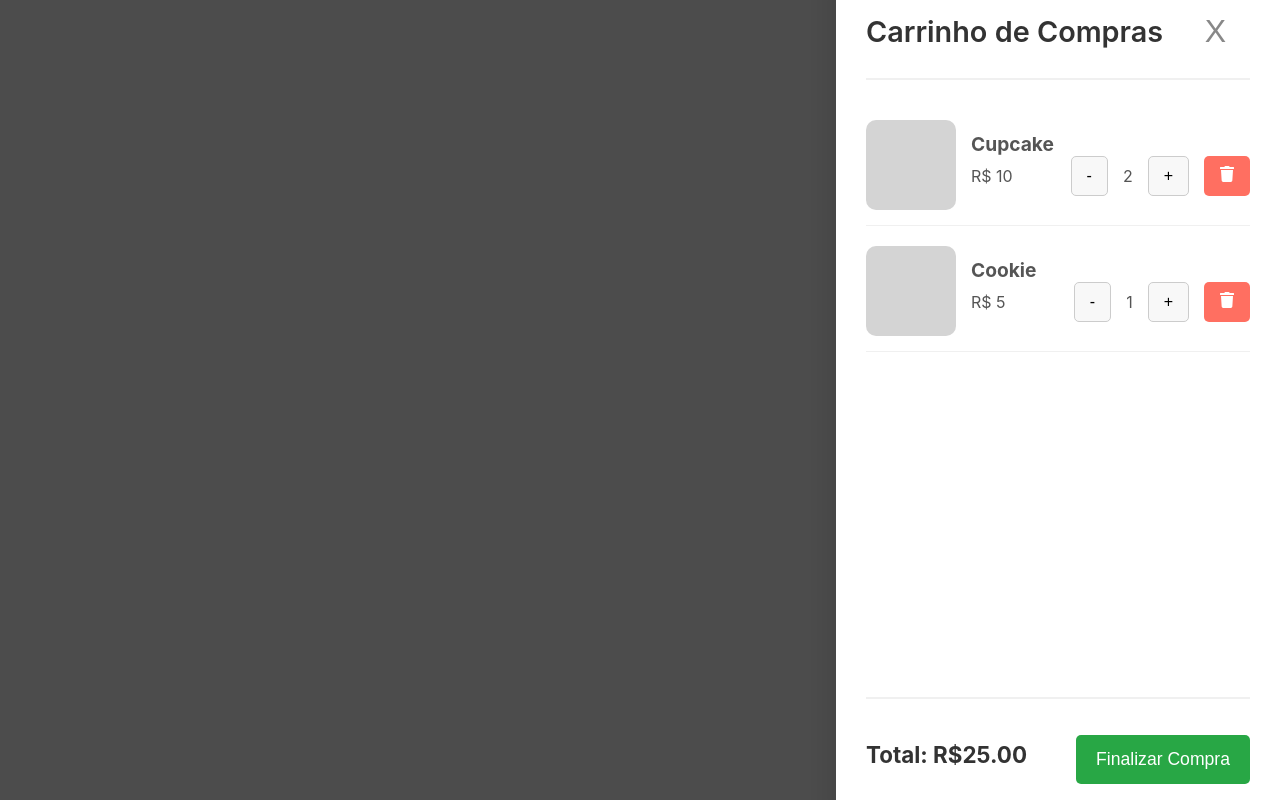
Test case: Cart Component › displays checkout modal on completing checkout
Click the button "Finalizar Compra": [1163, 759] box x1=1076 y1=735 x2=1250 y2=784
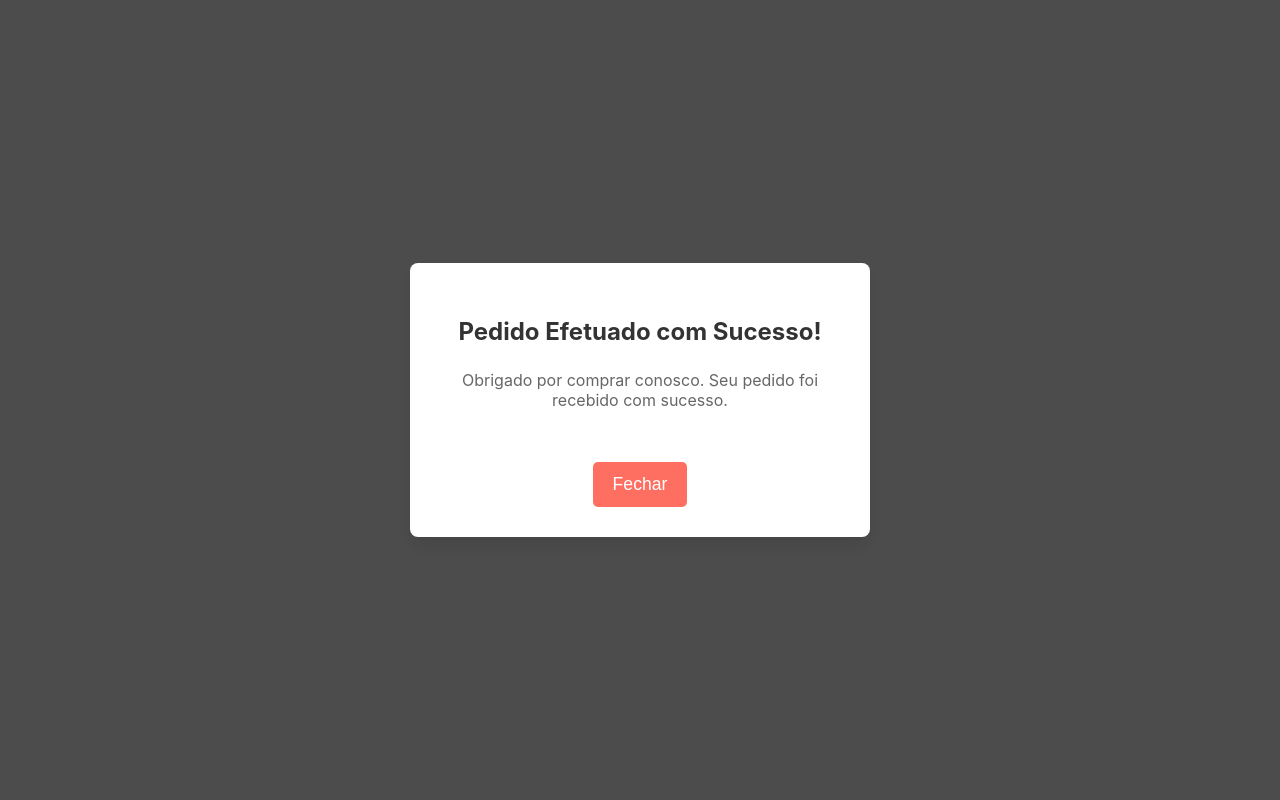
Now the heading "Pedido Efetuado com Sucesso!" is shown, box x1=440 y1=317 x2=840 y2=346
